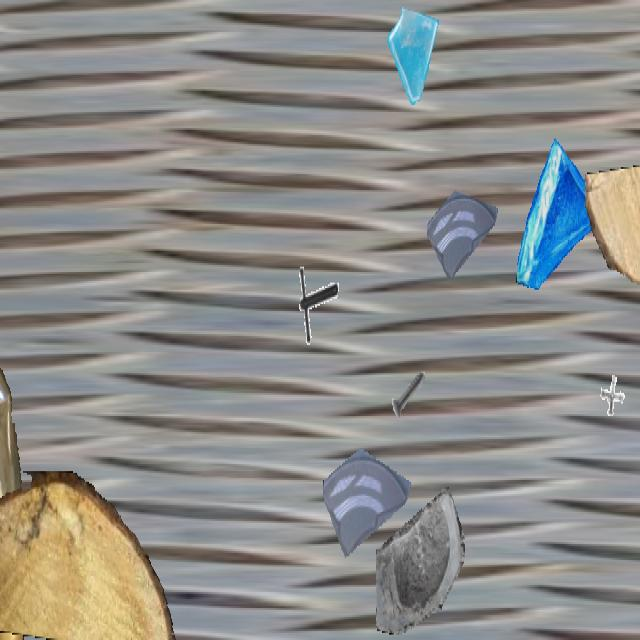glass: (514, 137, 608, 304), (376, 482, 464, 638), (323, 416, 411, 572), (427, 162, 499, 290), (386, 2, 444, 105)
metal: (290, 261, 338, 347), (388, 357, 430, 432), (594, 361, 634, 432)
plastic: (0, 311, 36, 638), (0, 2, 10, 634)
wood: (0, 471, 179, 638), (585, 162, 640, 282), (0, 450, 7, 638)
